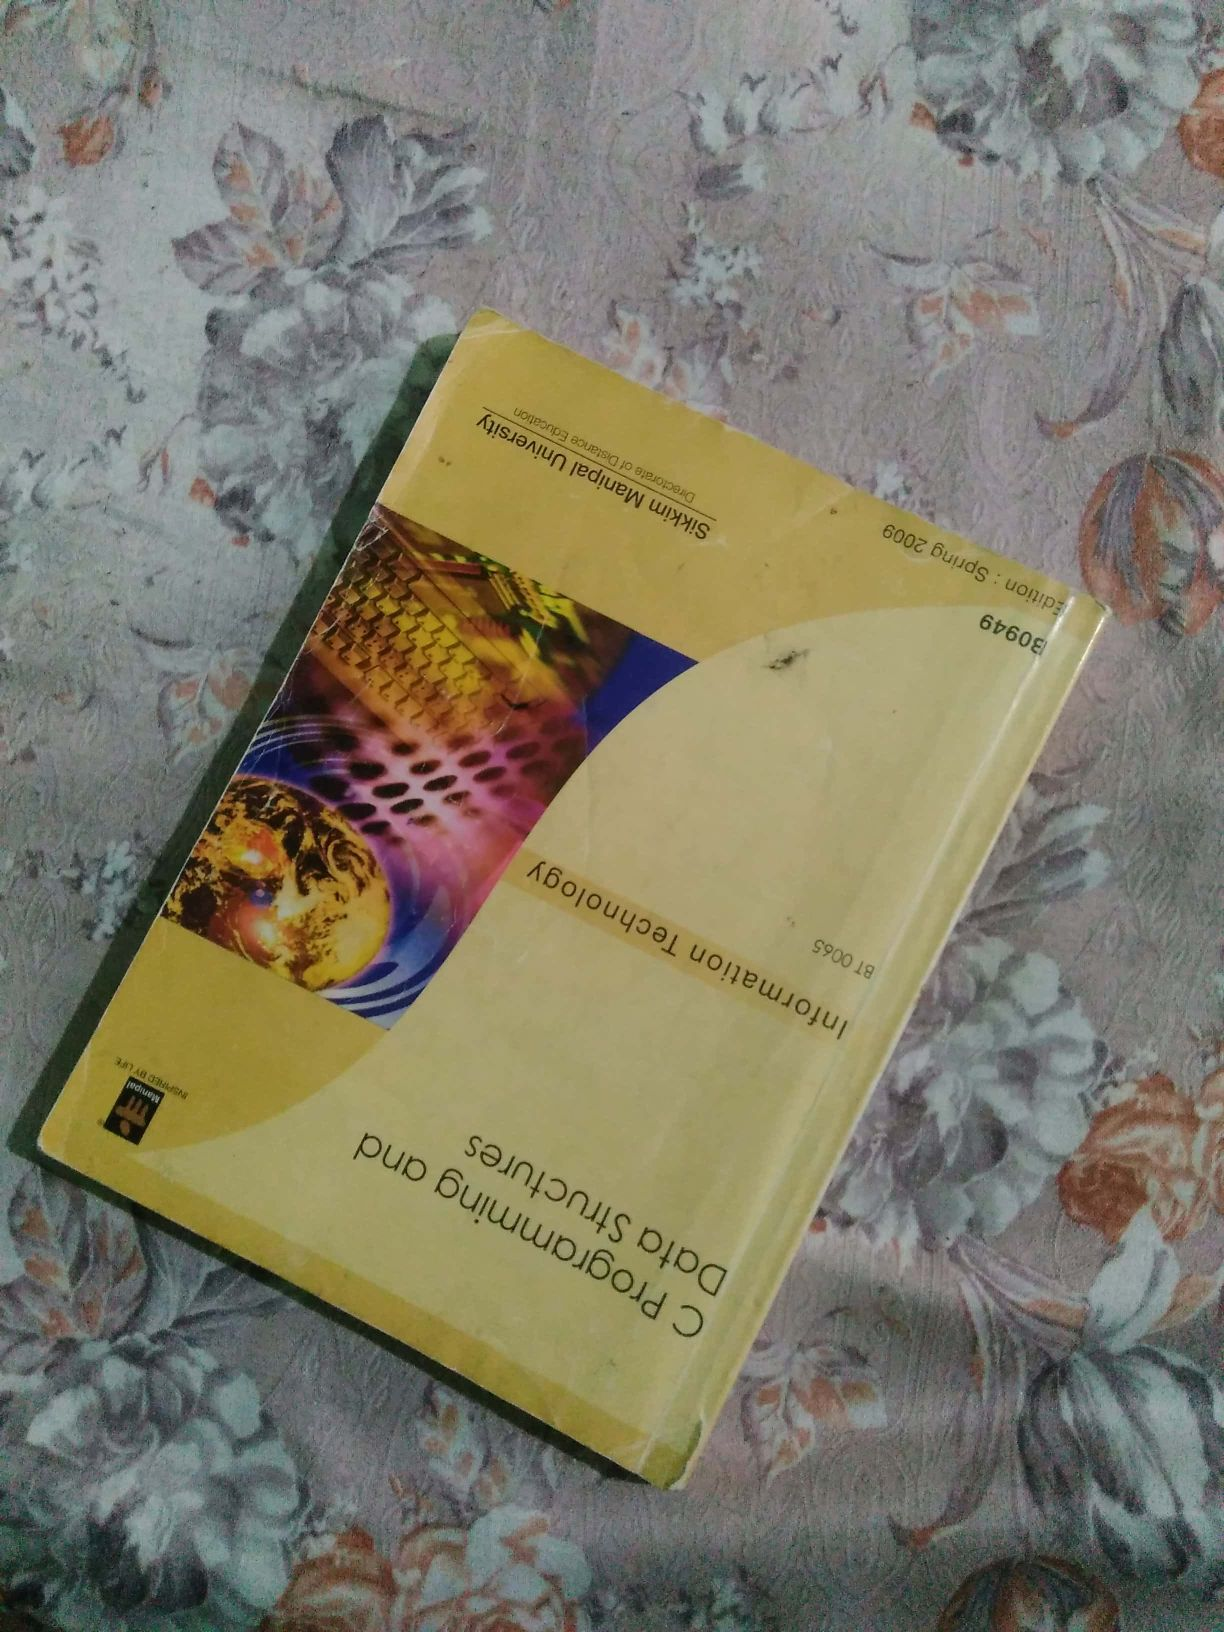clang: (122, 335, 1022, 1437)
